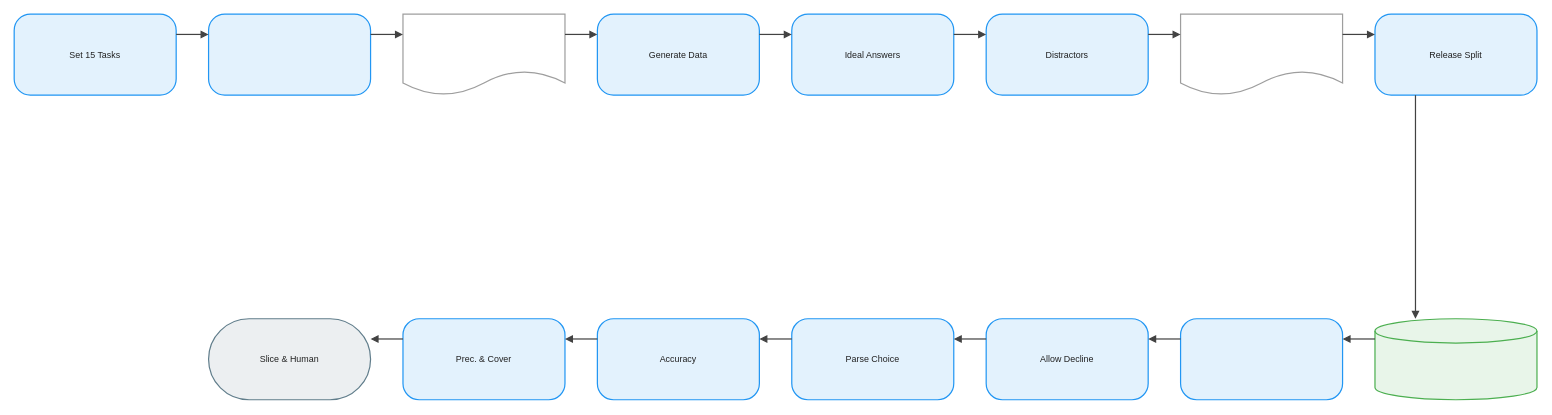
This 1552x415 diagram has some shape labels left out. Each missing label, with the box of its shape:
Assemble MCQ: (1180, 13, 1343, 95)
Bio Sequences: (208, 13, 371, 95)
Freeze 750: (1374, 318, 1537, 400)
Make Templates: (402, 13, 565, 95)
Zero-shot CoT: (1180, 318, 1343, 400)
